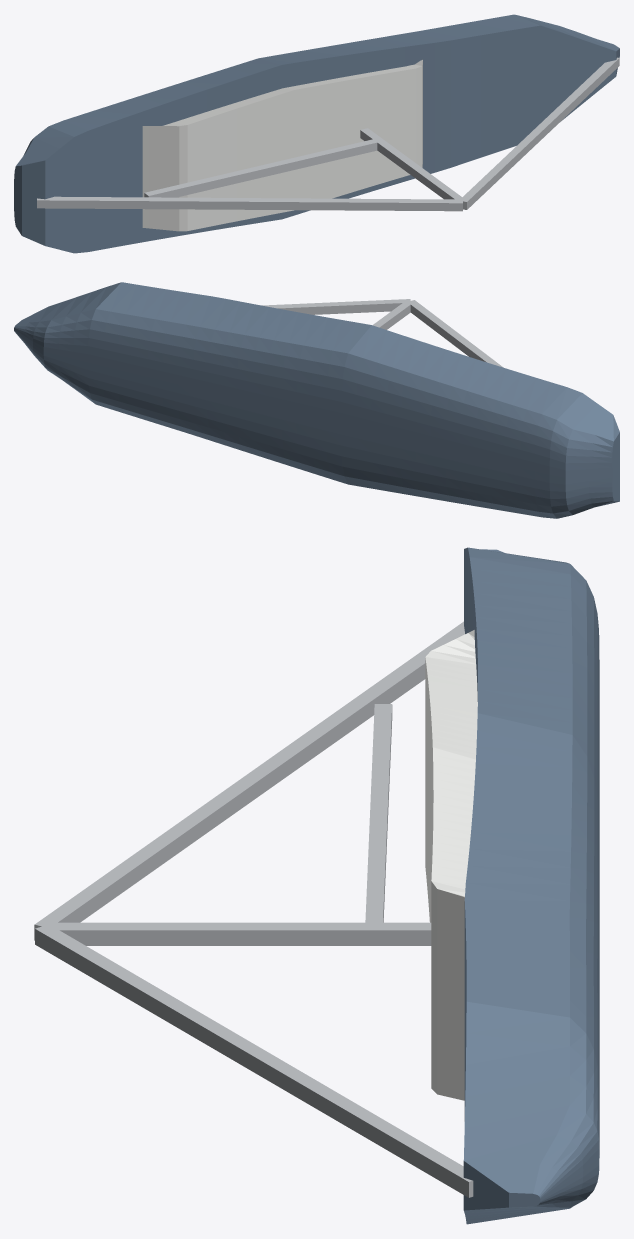
Rendered from loft-sail-large-sheered.glb.
3 views of the same model, one above another, from view 1: azimuth 30°, elevation 25°; view 2: azimuth 150°, elevation 25°; view 3: azimuth 270°, elevation 25° (orthographic). The views are drawn at different scales.
Visible parts, largest first — view 1: loft-sail-large-sheered; view 2: loft-sail-large-sheered; view 3: loft-sail-large-sheered.
Part boxes in pixels (x1=…): loft-sail-large-sheered: x1=14, y1=14, x2=619, y2=253; loft-sail-large-sheered: x1=14, y1=282, x2=619, y2=518; loft-sail-large-sheered: x1=34, y1=547, x2=599, y2=1224.
Size of the model in its own units: 1.88 by 0.4618 by 0.7728.
